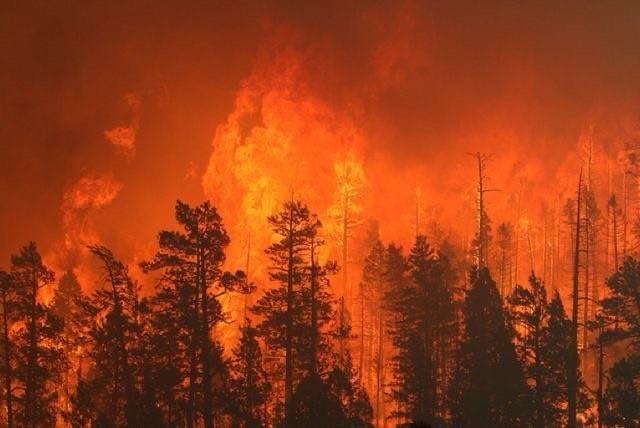fire: (139, 135, 640, 428), (12, 238, 106, 427), (216, 138, 305, 268), (323, 149, 380, 250)
